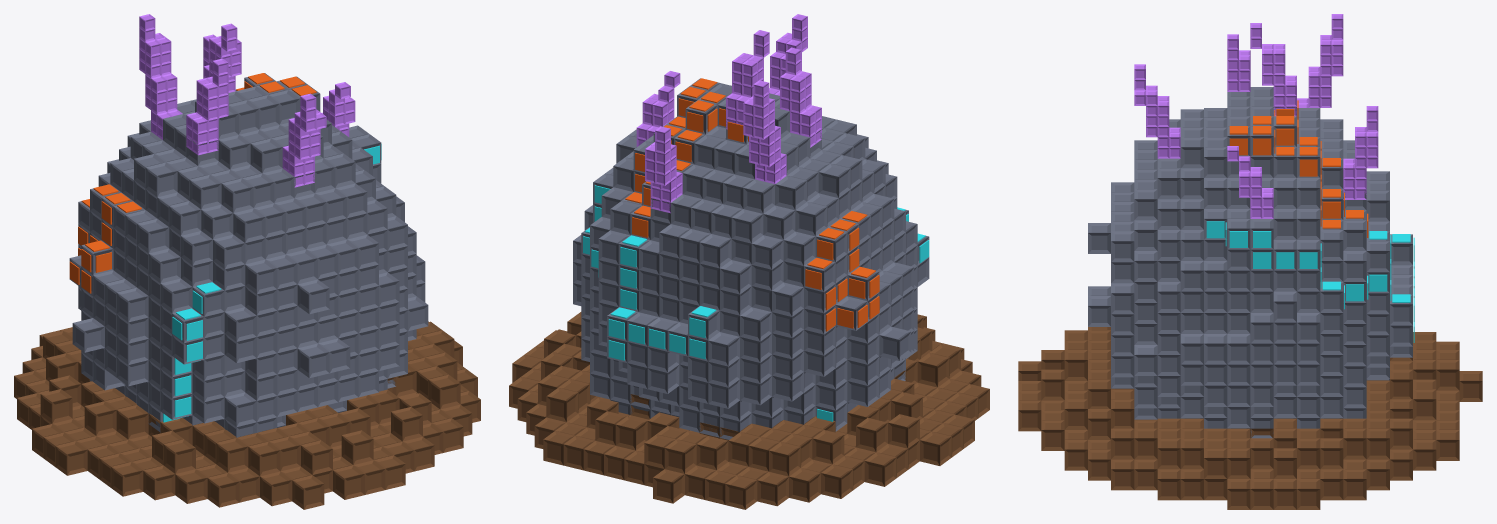
File: Geoda_Gigante.fbx
3 renders of one model, left to right at view 1: azimuth 30°, elevation 25°; view 2: azimuth 150°, elevation 25°; view 3: azimuth 270°, elevation 25°, orthographic.
Visible parts, largest first — view 1: Roca, Base, Cristales, Grietas, Grietas2; view 2: Roca, Base, Cristales, Grietas, Grietas2; view 3: Roca, Base, Cristales, Grietas, Grietas2.
Boxes of the visible parts, bbox=[...] form: Roca: bbox=[69, 73, 428, 437]; Base: bbox=[14, 321, 480, 509]; Cristales: bbox=[139, 14, 355, 187]; Grietas: bbox=[69, 73, 316, 293]; Grietas2: bbox=[163, 144, 381, 422]; Roca: bbox=[573, 78, 929, 439]; Base: bbox=[509, 312, 989, 509]; Cristales: bbox=[636, 14, 821, 213]; Grietas: bbox=[625, 78, 879, 331]; Grietas2: bbox=[583, 185, 929, 421]; Roca: bbox=[1088, 87, 1412, 438]; Base: bbox=[1018, 327, 1482, 509]; Cristales: bbox=[1134, 14, 1378, 218]; Grietas: bbox=[1229, 100, 1368, 237]; Grietas2: bbox=[1206, 221, 1414, 342].
Bounding box in the file's own units: 2.76 × 2.48 × 2.76.
